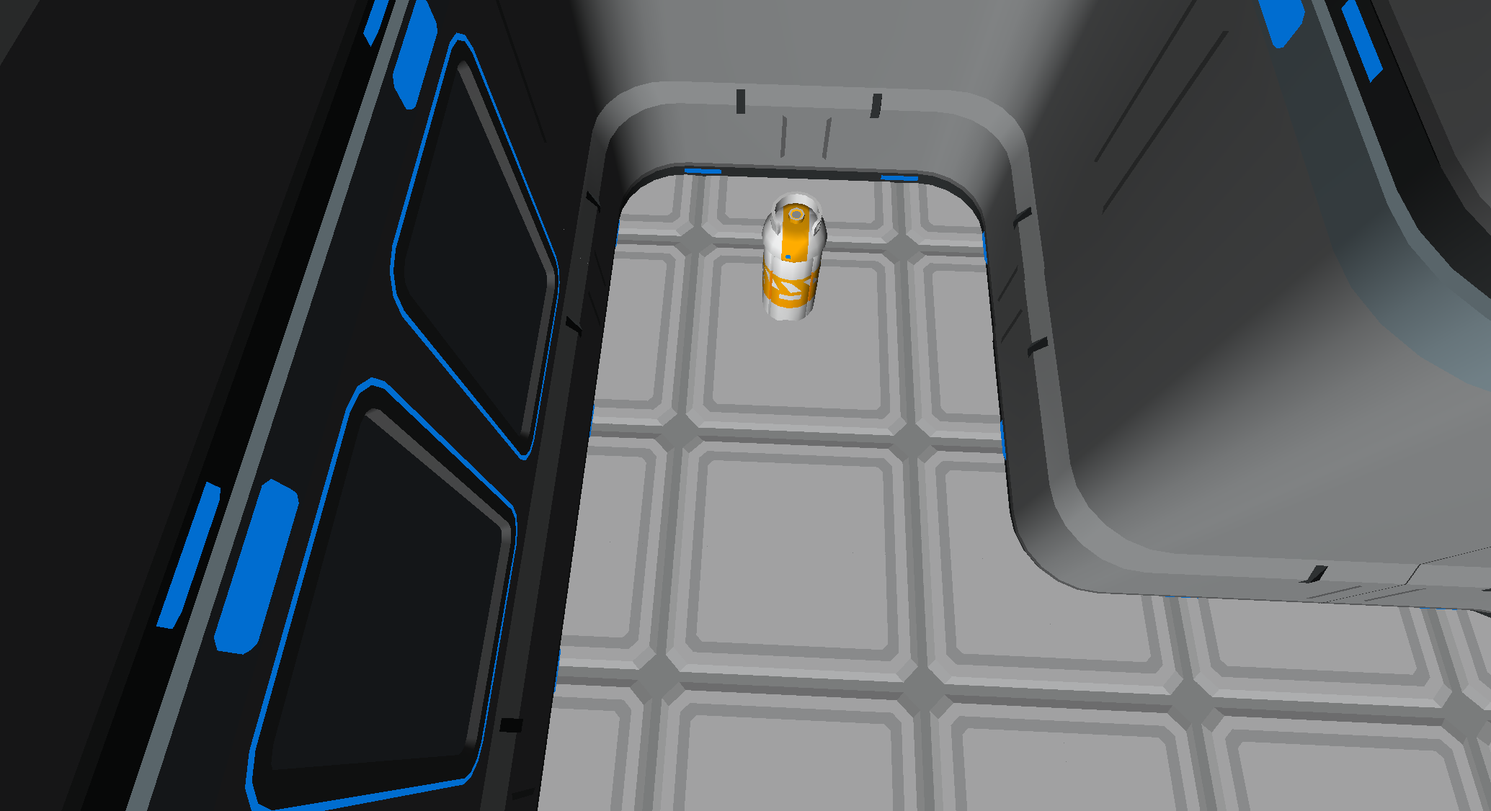yellow_barrel: (762, 194, 826, 321)
